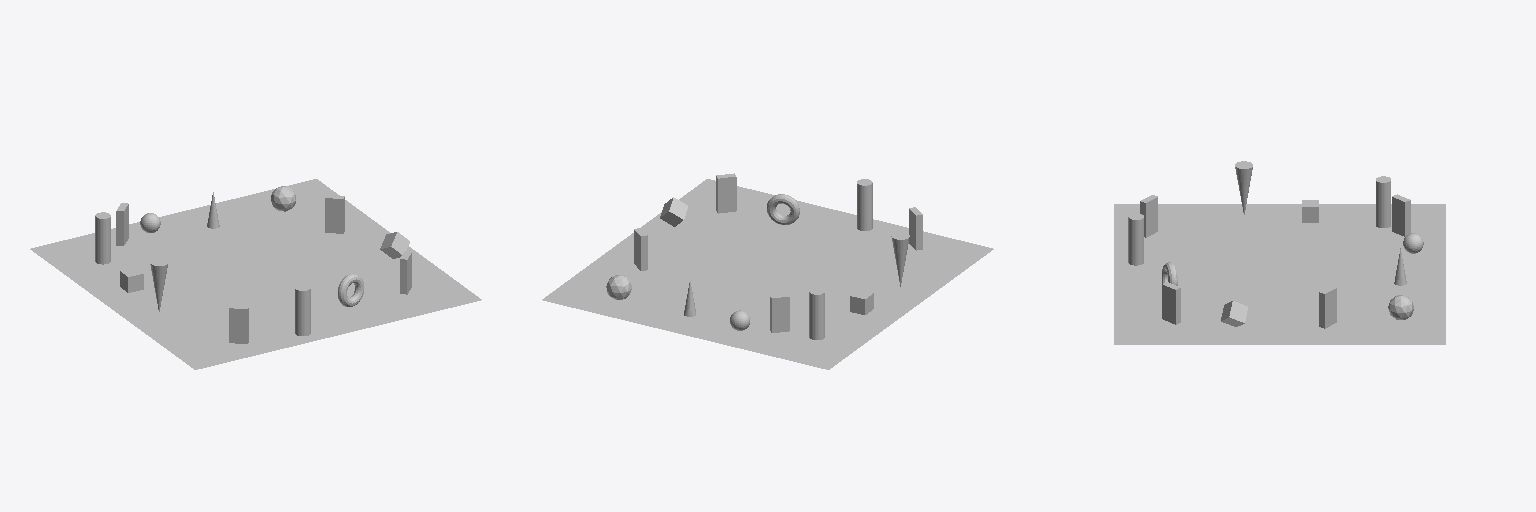
The model's file is environment03.obj.
The picture shows the model from 3 angles: view 1: azimuth 30°, elevation 25°; view 2: azimuth 150°, elevation 25°; view 3: azimuth 270°, elevation 25°; orthographic projection.
Parts seen in each view (by area): view 1: Plane_Plane.001, Cylinder.001, Cylinder, Cube.002_Cube.004, Cube.001_Cube.003, Torus.002, Cube.005_Cube.007, Cone.001; view 2: Plane_Plane.001, Cylinder.001, Cylinder, Cube.003_Cube.005, Cube_Cube.002, Torus.002, Cube.001_Cube.003, Cube.002_Cube.004, Cube.005_Cube.007, Cone.001; view 3: Plane_Plane.001, Cylinder, Cylinder.001, Cube.003_Cube.005, Cube_Cube.002, Cube.001_Cube.003, Cube.002_Cube.004, Cone.001, Cube.005_Cube.007.
Part boxes in pixels (x1,y1,x2,y2): Plane_Plane.001: (30, 179, 481, 369); Cylinder.001: (95, 212, 110, 264); Cylinder: (295, 284, 310, 335); Cube.002_Cube.004: (229, 305, 248, 343); Cube.001_Cube.003: (325, 195, 344, 233); Torus.002: (338, 274, 363, 306); Cube.005_Cube.007: (380, 232, 409, 258); Cone.001: (150, 258, 168, 311); Plane_Plane.001: (542, 179, 993, 369); Cylinder.001: (809, 288, 824, 339); Cylinder: (857, 179, 872, 230); Cube.003_Cube.005: (716, 173, 736, 213); Cube_Cube.002: (770, 293, 789, 332); Torus.002: (767, 194, 799, 224); Cube.001_Cube.003: (634, 228, 647, 270); Cube.002_Cube.004: (909, 207, 922, 250); Cube.005_Cube.007: (660, 197, 687, 226); Cone.001: (891, 232, 909, 286); Plane_Plane.001: (1114, 204, 1445, 344); Cylinder: (1128, 213, 1143, 265); Cylinder.001: (1376, 176, 1390, 227); Cube.003_Cube.005: (1162, 282, 1180, 324); Cube_Cube.002: (1392, 194, 1410, 236); Cube.001_Cube.003: (1319, 286, 1336, 328); Cube.002_Cube.004: (1140, 195, 1157, 237); Cone.001: (1235, 161, 1252, 214); Cube.005_Cube.007: (1221, 301, 1247, 326).
Size of the model in its own units: 17.22 by 3.99 by 17.22.